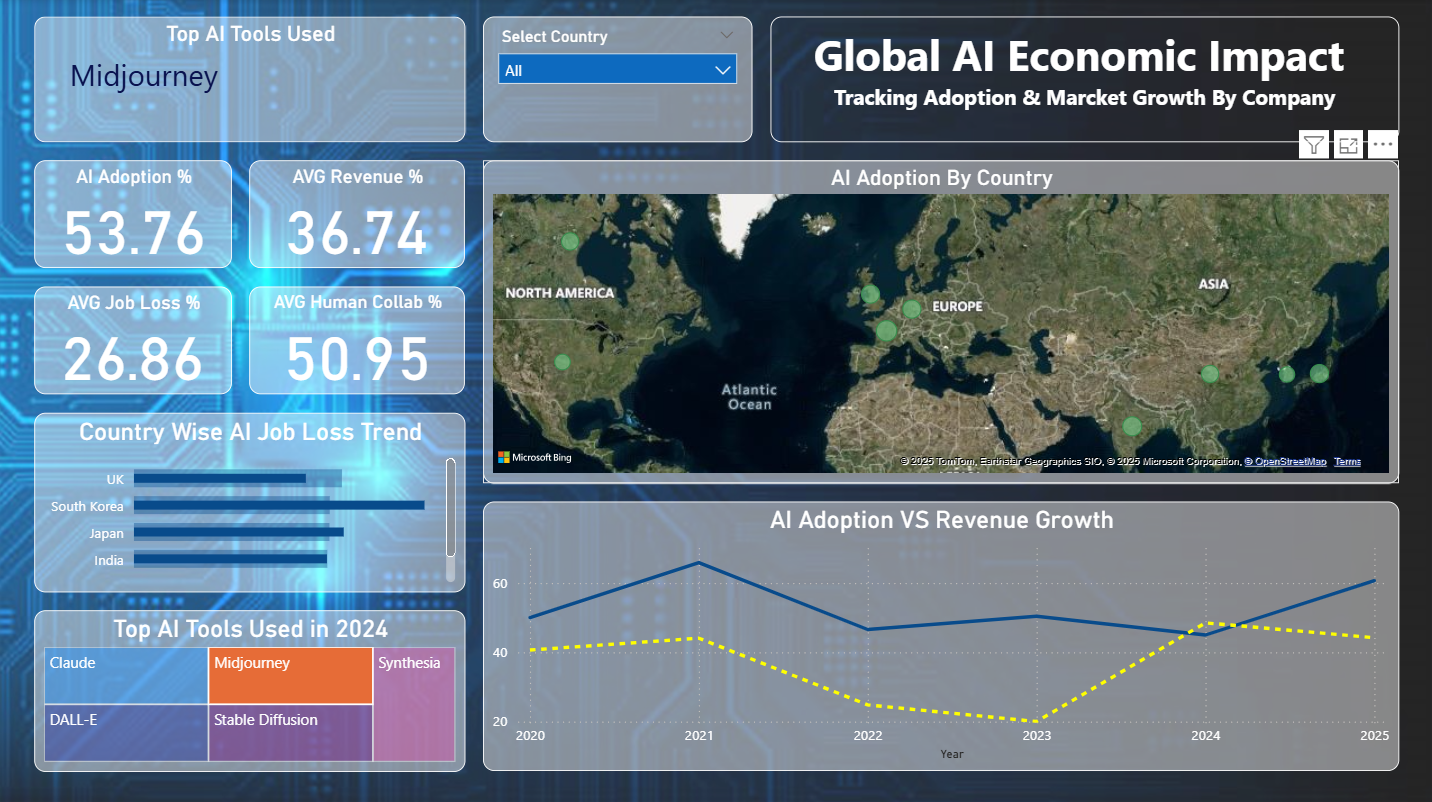

Layout of this report page (visuals, bound fields, positions):
{"tool":"powerbi","page":{"name":"Global AI Economical Imapact","canvas":[1280,720],"ordinal":0},"visuals":[{"type":"card","title":"AI Adoption %","fields":{"Values":["Global_AI_Content_Impact.AVG AI Adoption"]},"box":[32,144,176,96],"z":0},{"type":"card","title":"AVG Human Collab %","fields":{"Values":["Global_AI_Content_Impact.AVG Human Collab"]},"box":[224,256,192,96],"z":1000},{"type":"card","title":"AVG Job Loss %","fields":{"Values":["Global_AI_Content_Impact.AVG Job Loss"]},"box":[32,256,176,96],"z":2000},{"type":"card","title":" AVG Revenue %","fields":{"Values":["Global_AI_Content_Impact.AVG Revenue Increase"]},"box":[224,144,192,96],"z":3000},{"type":"map","title":"AI Adoption By Country","fields":{"Size":["Global_AI_Content_Impact.AVG AI Adoption"],"Category":["Global_AI_Content_Impact.Country"]},"box":[432,144,816,288],"z":4000},{"type":"lineChart","title":"AI Adoption VS Revenue Growth","fields":{"Category":["Global_AI_Content_Impact.Year"],"Y":["Avg(Global_AI_Content_Impact.AI Adoption Rate (%))","Avg(Global_AI_Content_Impact.Revenue Increase Due to AI (%))"]},"box":[432,448,816,240],"z":5000},{"type":"barChart","title":"Country Wise AI Job Loss Trend ","fields":{"Category":["Global_AI_Content_Impact.Country"],"Y":["Global_AI_Content_Impact.AVG Job Loss"]},"box":[32,368,384,160],"z":6000},{"type":"slicer","fields":{"Values":["Global_AI_Content_Impact.Country"]},"box":[432,16,240,112],"z":7000},{"type":"WordCloud1447959067750","title":"Top  AI Tools Used  ","fields":{"Category":["Global_AI_Content_Impact.Top AI Tools Used"]},"box":[32,16,384,112],"z":8000},{"type":"treemap","title":"Top AI Tools Used in 2024","fields":{"Group":["Global_AI_Content_Impact.Top AI Tools Used"],"Values":["Count(Global_AI_Content_Impact.Year)"]},"box":[32,544,384,144],"z":9000},{"type":"textbox","box":[688,16,560,112],"z":10000}]}

Visuals, with their boxes in screenshot pixels (x1, y1, x2, y2), scaled from the page's 1280x720 canvas onto the 1432x802 screenshot:
"AI Adoption %" card: left=36, top=160, right=233, bottom=267
"AVG Human Collab %" card: left=251, top=285, right=465, bottom=392
"AVG Job Loss %" card: left=36, top=285, right=233, bottom=392
" AVG Revenue %" card: left=251, top=160, right=465, bottom=267
"AI Adoption By Country" map: left=483, top=160, right=1396, bottom=481
"AI Adoption VS Revenue Growth" lineChart: left=483, top=499, right=1396, bottom=766
"Country Wise AI Job Loss Trend " barChart: left=36, top=410, right=465, bottom=588
slicer - Global_AI_Content_Impact.Country: left=483, top=18, right=752, bottom=143
"Top  AI Tools Used  " WordCloud1447959067750: left=36, top=18, right=465, bottom=143
"Top AI Tools Used in 2024" treemap: left=36, top=606, right=465, bottom=766
textbox: left=770, top=18, right=1396, bottom=143
